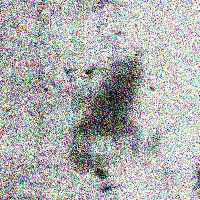patches: (76, 59, 140, 139)
